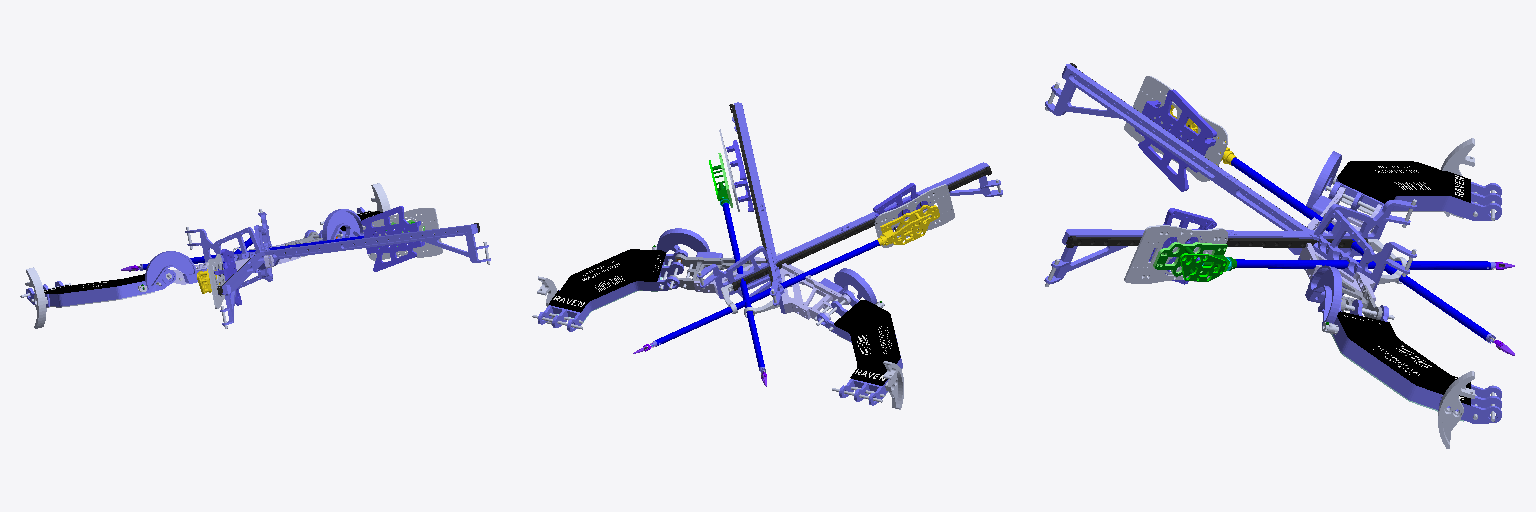
The robot description file, URDF, robot "raven_2":
<?xml version="1.0"?>
<!--RavenII Surgical Robot 2-Arm urdf File -->
<!--Author: Sina Nia Kosari & Lee White-->
<[email redacted] & leewhite@uw.edu-->
<!--Date: 01-Dec-2011 -->
<!--Biorobotics Laboratory -->
<!--University of Washington -->

<robot name="raven_2">

  <link name="0_link">
   <visual>
     <origin xyz="0 0 0" rpy="0 0 0" />
     <geometry>
       <box size=".001 .001 .001" />
     </geometry>
     <material name="Cyan">
       <color rgba="0 255 255 1.0"/>
     </material>
   </visual>
  </link>

  <!-- LEFT ARM LINKS -->
  <link name="base_link_L">
    <visual>
      <geometry>
        <mesh filename="package://raven_2_params/data/left_arm/base_w_motors.dae"/>
      </geometry>
    <origin xyz="0 0 0" rpy="-1.57075 1.57075 -1.57075"/>
    </visual>
  </link>

  <link name="link1_L">
    <visual>
      <geometry>
        <mesh filename="package://raven_2_params/data/left_arm/link1_w_cover.dae"/>
      </geometry>
    </visual>
  </link>

  <link name="link2_L">
    <visual>
      <geometry>
        <mesh filename="package://raven_2_params/data/left_arm/link2.dae"/>
      </geometry>
    </visual>
  </link>

  <link name="link3_L">
    <visual>
      <geometry>
        <mesh filename="package://raven_2_params/data/left_arm/link3.dae"/>
      </geometry>
    </visual>
  </link>

  <link name="instrument_shaft_L">
    <visual>
      <geometry>
        <mesh filename="package://raven_2_params/data/left_arm/instrument_shaft.dae"/>
      </geometry>
    </visual>
  </link>

  <link name="wrist_L">
    <visual>
      <geometry>
        <mesh filename="package://raven_2_params/data/left_arm/wrist.dae"/>
      </geometry>
    </visual>
  </link>

  <link name="grasper1_L">
    <visual>
      <geometry>
        <mesh filename="package://raven_2_params/data/left_arm/grasper_1.dae"/>
      </geometry>
    <origin rpy="0 0 0" xyz="-0.00680 -0.00904 0.00452"/>
    </visual>
  </link>

  <link name="grasper2_L">
    <visual>
      <geometry>
        <mesh filename="package://raven_2_params/data/left_arm/grasper_2.dae"/>
      </geometry>
    <origin rpy="0 0 0" xyz="-0.00680 -0.00904 0.00452"/>
    </visual>
  </link>


 <!-- RIGHT ARM LINKS -->
 <link name="base_link_R">
    <visual>
      <geometry>
        <mesh filename="package://raven_2_params/data/right_arm/base_w_motors.dae"/>
      </geometry>
    <!--origin xyz="0 0 -1" rpy="0 1.57075 0"/-->
    <origin xyz="0 0 1" rpy="3.1415 -1.57075 0"/>
    </visual>
  </link>

  <link name="link1_R">
    <visual>
      <geometry>
        <mesh filename="package://raven_2_params/data/right_arm/link1_w_cover.dae"/>
      </geometry>
    <origin xyz="1 0 0" rpy="0 0 0"/>
    </visual>
  </link>

  <link name="link2_R">
    <visual>
      <geometry>
        <mesh filename="package://raven_2_params/data/right_arm/link2.dae"/>
      </geometry>
    <origin xyz="1 0 0" rpy="0 0 0"/>
    </visual>
  </link>

  <link name="link3_R">
    <visual>
      <geometry>
        <mesh filename="package://raven_2_params/data/right_arm/link3.dae"/>
      </geometry>
    <origin xyz="1 0 0" rpy="0 0 0"/>
    </visual>
  </link>

  <link name="instrument_shaft_R">
    <visual>
      <geometry>
        <mesh filename="package://raven_2_params/data/right_arm/instrument_shaft.dae"/>
      </geometry>
    <origin xyz="1 0 0" rpy="0 0 0"/>
    </visual>
  </link>

  <link name="wrist_R">
    <visual>
      <geometry>
        <mesh filename="package://raven_2_params/data/right_arm/wrist.dae"/>
      </geometry>
    <origin xyz="1 0 0" rpy="0 0 0"/>
    </visual>
  </link>

  <link name="grasper1_R">
    <visual>
      <geometry>
        <mesh filename="package://raven_2_params/data/right_arm/grasper_1.dae"/>
      </geometry>
    <origin rpy="0 0 0" xyz="1.00680 -0.00904 0.00452"/>
    </visual>
  </link>

  <link name="grasper2_R">
    <visual>
      <geometry>
        <mesh filename="package://raven_2_params/data/right_arm/grasper_2.dae"/>
      </geometry>
    <origin rpy="0 0 0" xyz="1.00680 -0.00904 0.00452"/>
    </visual>
  </link>


  <!-- LEFT ARM JOINTS -->
  <joint name="camera_L" type="fixed">
    
    <limit effort="1000.0" lower="0.0" upper="3.1415" velocity="0.5"/>
    <origin rpy="-1.57075 -1.57075 1.57075" xyz="0.0 0.00 0"/> <!-- berkeley's ravens are mounted without the tilt -->
    <!-- <origin rpy="-1.57075 -2.0071286 1.57075" xyz="0.0 0.00 0"/> -->
    <parent link="0_link"/>
    <child link="base_link_L"/>
  </joint>

  <joint name="shoulder_L" type="revolute">
    <axis xyz="-1 0 0"/>
    <limit effort="1000.0" lower="-3.1415" upper="3.1415" velocity="0.5"/>
    <origin rpy="0 1.5705 0" xyz="0.0 0.0 0"/>
    <parent link="base_link_L"/>
    <child link="link1_L"/>
  </joint>

  <joint name="elbow_L" type="revolute">
    <axis xyz="-0.2590   0.9014    -0.3471"/>
    <limit effort="1000.0" lower="-3.1415" upper="3.1415" velocity="0.5"/>
    <origin rpy="0 0 0" xyz="0.0 0.0 0"/>
    <parent link="link1_L"/>
    <child link="link2_L"/>
  </joint>

  <joint name="insertion_L" type="prismatic">
    <axis xyz="-0.6012   -0.7460    0.2864"/>
    <limit effort="1000.0" lower="-.17" upper=".1" velocity="0.5"/>
    <origin rpy="0 0 0" xyz="0 0 0"/>
    <parent link="link2_L"/>
    <child link="link3_L"/>
  </joint>

  <joint name="tool_roll_L" type="revolute">
    <axis xyz="-0.6012   -0.7460    0.2864"/>
    <limit effort="1000.0" lower="-3.1415" upper="3.1415" velocity="0.5"/>
    <origin rpy="0 0 0" xyz="0 0 0"/>
    <parent link="link3_L"/>
    <child link="instrument_shaft_L"/>
  </joint>

  <joint name="wrist_joint_L" type="revolute">
    <axis xyz=" -0.5637    0.6523    0.5067"/>
    <limit effort="1000.0" lower="-2" upper="2" velocity="0.5"/>
    <origin rpy="0 0 0" xyz="0 0 0"/>
    <parent link="instrument_shaft_L"/>
    <child link="wrist_L"/>
  </joint>

  <joint name="grasper_joint_1_L" type="revolute">
    <axis xyz="-0.5648    0.1427   -0.8128"/>
    <limit effort="1000.0" lower="-2" upper="2" velocity=".5"/>
    <origin rpy="0 0 0" xyz="0.00680 0.00904 -0.00452"/>
    <parent link="wrist_L"/>
    <child link="grasper1_L"/>
  </joint>

  <joint name="grasper_joint_2_L" type="revolute">
    <axis xyz="0.5648    -0.1427   0.8128"/>
    <limit effort="1000.0" lower="-2" upper="2" velocity=".5"/>
    <origin rpy="0 0 0" xyz="0.00680 0.00904 -0.00452"/>
    <parent link="wrist_L"/>
    <child link="grasper2_L"/>
  </joint>


  <!-- RIGHT ARM JOINTS -->
  <joint name="camera_R" type="fixed">
    
    <limit effort="1000.0" lower="0.0" upper="3.1415" velocity="0.5"/>
    <origin rpy="1.57075 -1.57075 1.57075" xyz="-.2 0.00 0"/> <!-- berkeley's ravens are mounted without the tilt -->
    <!-- <origin rpy=" 1.57075 -2.0071286 1.57075" xyz="-.2 0.00 0"/> -->
    <parent link="0_link"/>
    <child link="base_link_R"/>
  </joint>

  <joint name="shoulder_R" type="revolute">
    <axis xyz="-1 0 0"/>
    <limit effort="1000.0" lower="-3.1415" upper="3.1415" velocity="0.5"/>
    <!--origin rpy="0 1.5705 0" xyz="0 0.0 0"/-->
    <origin rpy="3.1415 -1.57075 0" xyz="0 0.0 0"/>
    <parent link="base_link_R"/>
    <child link="link1_R"/>
  </joint>

  <joint name="elbow_R" type="revolute">
    <axis xyz="-0.2590   -0.9014    0.3471"/>
    <limit effort="1000.0" lower="-3.1415" upper="3.1415" velocity="0.5"/>
    <origin rpy="0 0 0" xyz="0.0 0.0 0"/>
    <parent link="link1_R"/>
    <child link="link2_R"/>
  </joint>

  <joint name="insertion_R" type="prismatic">
    <axis xyz="0.6012   -0.7460    0.2864"/>
    <limit effort="1000.0" lower="-.17" upper=".1" velocity="0.5"/>
    <origin rpy="0 0 0" xyz="0 0 0"/>
    <parent link="link2_R"/>
    <child link="link3_R"/>
  </joint>

  <joint name="tool_roll_R" type="revolute">
    <axis xyz="-0.6012   0.7460    -0.2864"/>
    <limit effort="1000.0" lower="-3.1415" upper="3.1415" velocity="0.5"/>
    <origin rpy="0 0 0" xyz="0 0 0"/>
    <parent link="link3_R"/>
    <child link="instrument_shaft_R"/>
  </joint>

  <joint name="wrist_joint_R" type="revolute">
    <axis xyz=" 0.5637    0.6523    0.5067"/>
    <limit effort="1000.0" lower="-2" upper="2" velocity="0.5"/>
    <origin rpy="0 0 0" xyz="0 0 0"/>
    <parent link="instrument_shaft_R"/>
    <child link="wrist_R"/>
  </joint>

  <joint name="grasper_joint_1_R" type="revolute">
    <axis xyz="-0.5648    +0.1427   0.8128"/>
    <limit effort="1000.0" lower="-2" upper="2" velocity=".5"/>
    <origin rpy="0 0 0" xyz="-0.00680 0.00904 -0.00452"/>
    <parent link="wrist_R"/>
    <child link="grasper1_R"/>
  </joint>

  <joint name="grasper_joint_2_R" type="revolute">
    <axis xyz="0.5648    0.1427   -0.8128"/>
    <limit effort="1000.0" lower="-2" upper="2" velocity=".5"/>
    <origin rpy="0 0 0" xyz="-0.00680 0.00904 -0.00452"/>
    <parent link="wrist_R"/>
    <child link="grasper2_R"/>
  </joint>


</robot>

--- Facts derived from the render (not from the file) ---
Views: 3 orthographic renders of the robot side by side, from view 1: azimuth 30°, elevation 25°; view 2: azimuth 150°, elevation 25°; view 3: azimuth 270°, elevation 25°.
Robot: raven_2 — 17 links, 16 joints (12 revolute, 2 prismatic, 2 fixed); root link 0_link; default pose: all joints at 0.
Links seen in each view (by area): view 1: link2_R, link1_R, link3_R, link2_L, link3_L, link1_L; view 2: link2_L, link1_L, link1_R, link2_R, link3_L, instrument_shaft_L, link3_R, instrument_shaft_R; view 3: link2_L, link1_L, link1_R, link2_R, link3_R, link3_L, instrument_shaft_L, instrument_shaft_R.
Boxes of the visible links, box(x1,y1,x2,y2) form: link2_R: box(145, 223, 490, 289); link1_R: box(20, 267, 175, 328); link3_R: box(361, 206, 442, 271); link2_L: box(217, 209, 363, 328); link3_L: box(197, 249, 241, 308); link1_L: box(304, 183, 391, 238); link2_L: box(657, 162, 1002, 313); link1_L: box(532, 245, 687, 331); link1_R: box(816, 290, 903, 409); link2_R: box(729, 102, 876, 320); link3_L: box(873, 183, 954, 247); instrument_shaft_L: box(651, 240, 879, 346); link3_R: box(709, 129, 753, 211); instrument_shaft_R: box(722, 203, 765, 372); link2_L: box(1045, 63, 1416, 325); link1_L: box(1322, 299, 1501, 448); link1_R: box(1326, 138, 1501, 220); link2_R: box(1044, 151, 1416, 286); link3_R: box(1124, 208, 1236, 284); link3_L: box(1124, 76, 1236, 191); instrument_shaft_L: box(1231, 157, 1495, 343); instrument_shaft_R: box(1236, 259, 1495, 269).
Bounding box of the posed robot: 0.6382 × 0.5344 × 0.2285 m (x, y, z).
Meshes: 16 distinct files referenced, 14 mesh visuals loaded (14 Collada DAE); not drawn: 2 (reference not matched to a file when rendering).
